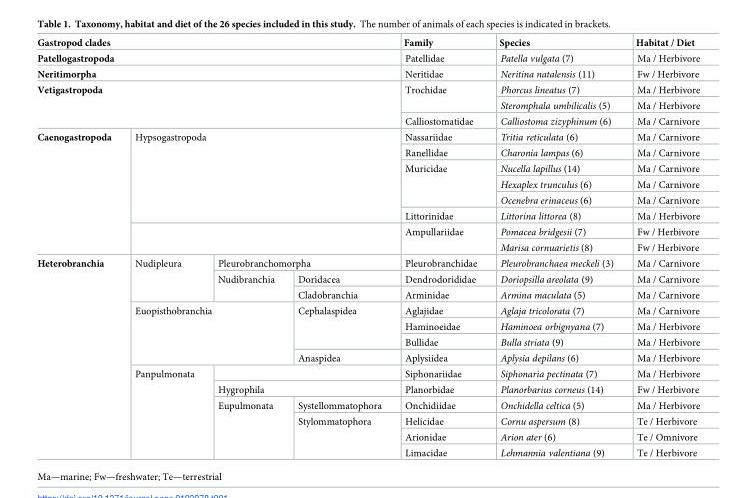table: (36, 37, 699, 458)
table column: (487, 37, 623, 458), (285, 37, 391, 458), (391, 37, 487, 458), (36, 37, 122, 458), (122, 37, 205, 458), (205, 37, 285, 458), (623, 37, 699, 458)
table column header: (36, 37, 699, 49)
table row: (36, 49, 699, 65), (36, 65, 699, 81), (36, 81, 699, 97), (36, 97, 699, 113), (36, 128, 699, 144), (36, 144, 699, 160), (36, 160, 699, 176), (36, 191, 699, 207), (36, 207, 699, 223), (36, 223, 699, 239), (36, 239, 699, 255), (36, 270, 699, 286), (36, 286, 699, 302), (36, 302, 699, 318), (36, 318, 699, 334), (36, 349, 699, 365), (36, 365, 699, 381), (36, 381, 699, 397), (36, 412, 699, 428), (36, 428, 699, 444), (36, 113, 699, 128), (36, 176, 699, 191), (36, 255, 699, 270), (36, 334, 699, 349), (36, 397, 699, 412), (36, 444, 699, 458), (36, 37, 699, 49)
table spanning cell: (122, 128, 391, 223), (36, 255, 122, 458), (36, 81, 391, 128), (36, 128, 122, 255), (122, 302, 285, 365), (122, 365, 205, 458), (36, 49, 391, 65), (36, 65, 391, 81), (285, 302, 391, 349), (205, 397, 285, 458), (285, 412, 391, 458), (391, 160, 487, 207), (36, 37, 391, 49), (122, 255, 205, 302), (391, 81, 487, 113), (391, 223, 487, 255), (205, 381, 391, 397), (205, 255, 391, 270), (205, 270, 285, 302)
